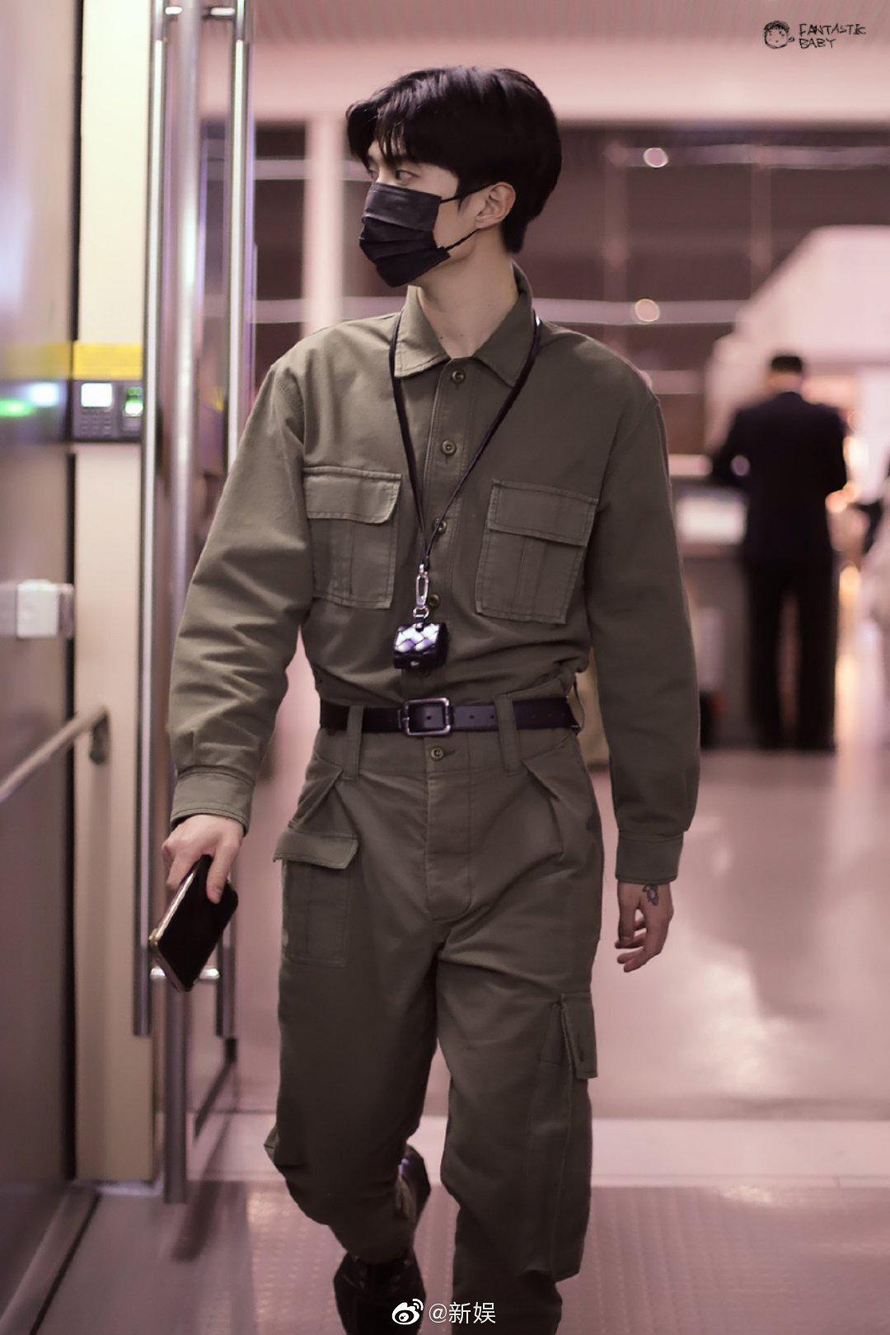OK: (358, 152, 448, 289)
